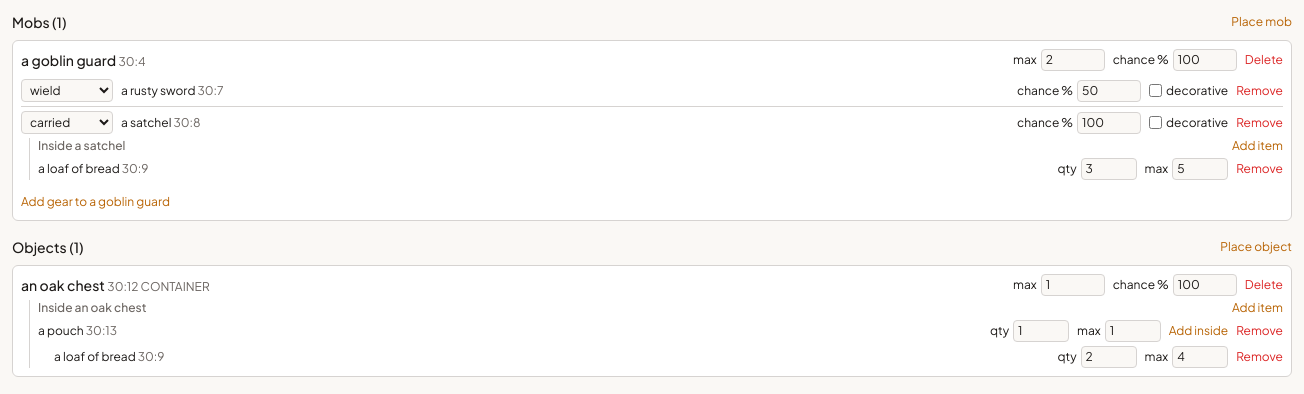
RoomResetsPanel mob resets › puts back a nonsense max instead of saving it
This screenshot has width=1304, height=394.
Replace the text in the number field named "Max instances of a goblin guard" with "0" at (1073,60), box [1041,49,1105,71]
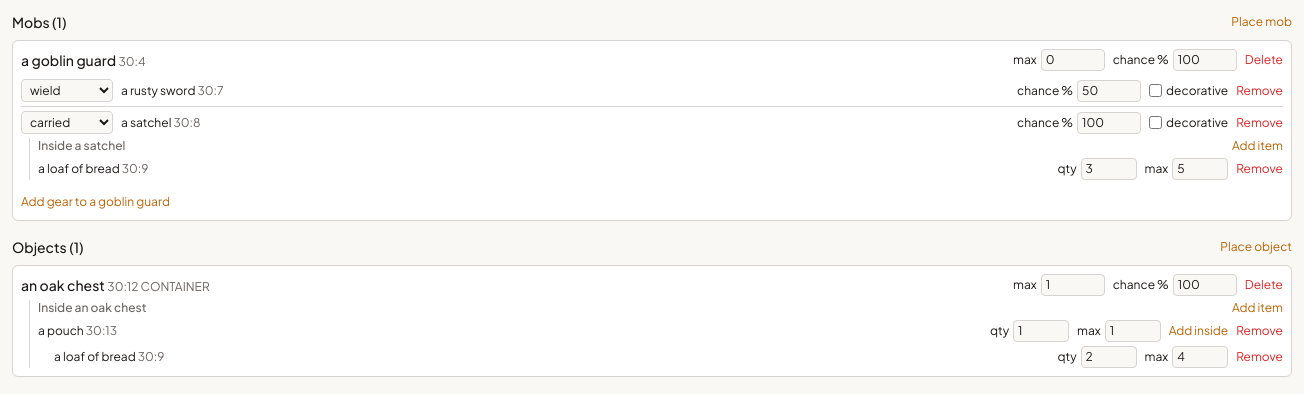
Leave the number field named "Max instances of a goblin guard", box [1041,49,1105,71]
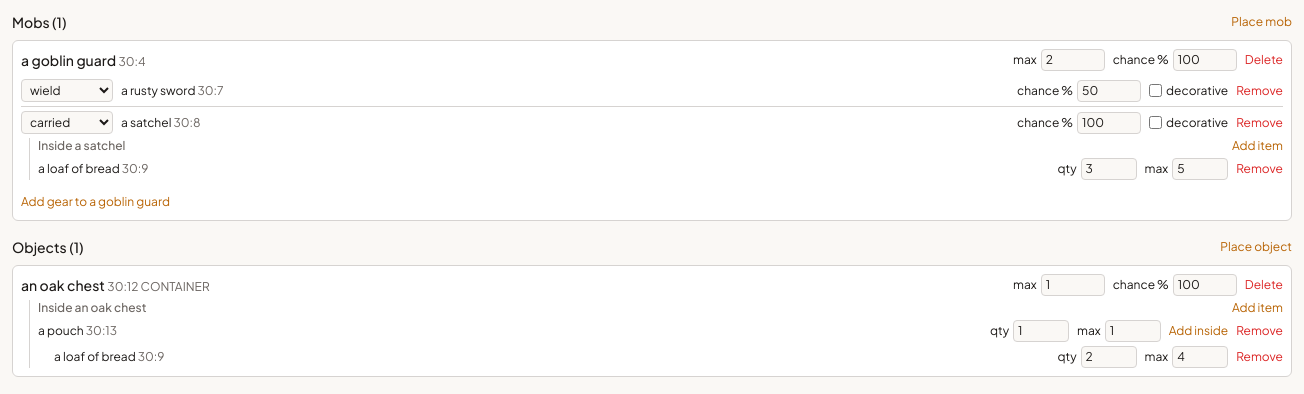
Now the number field named "Max instances of a goblin guard" holds "2", box [1041,49,1105,71]
